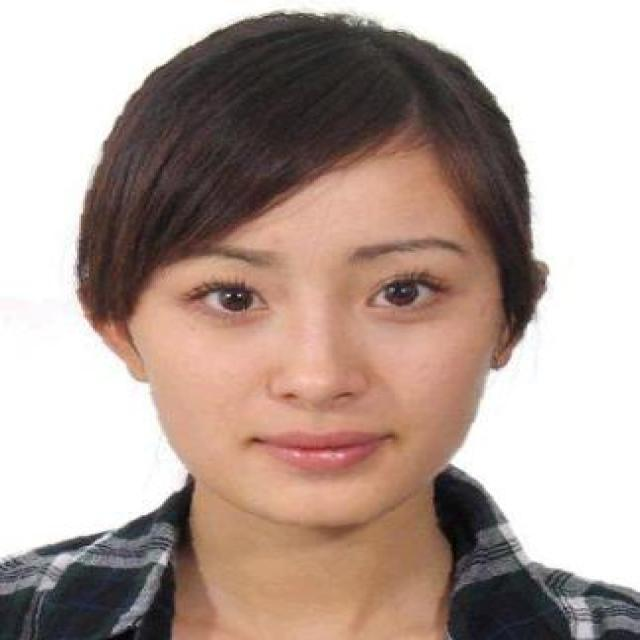Open: (364, 272, 448, 312), (184, 277, 268, 317)
